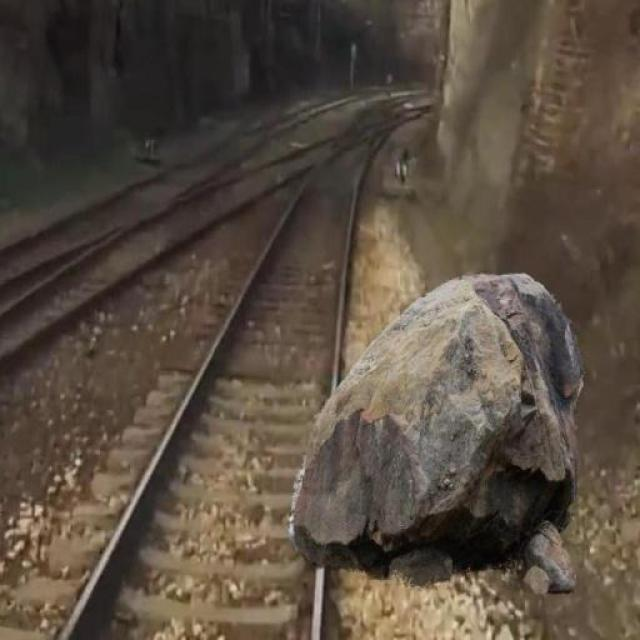Stone: (288, 260, 591, 599)
